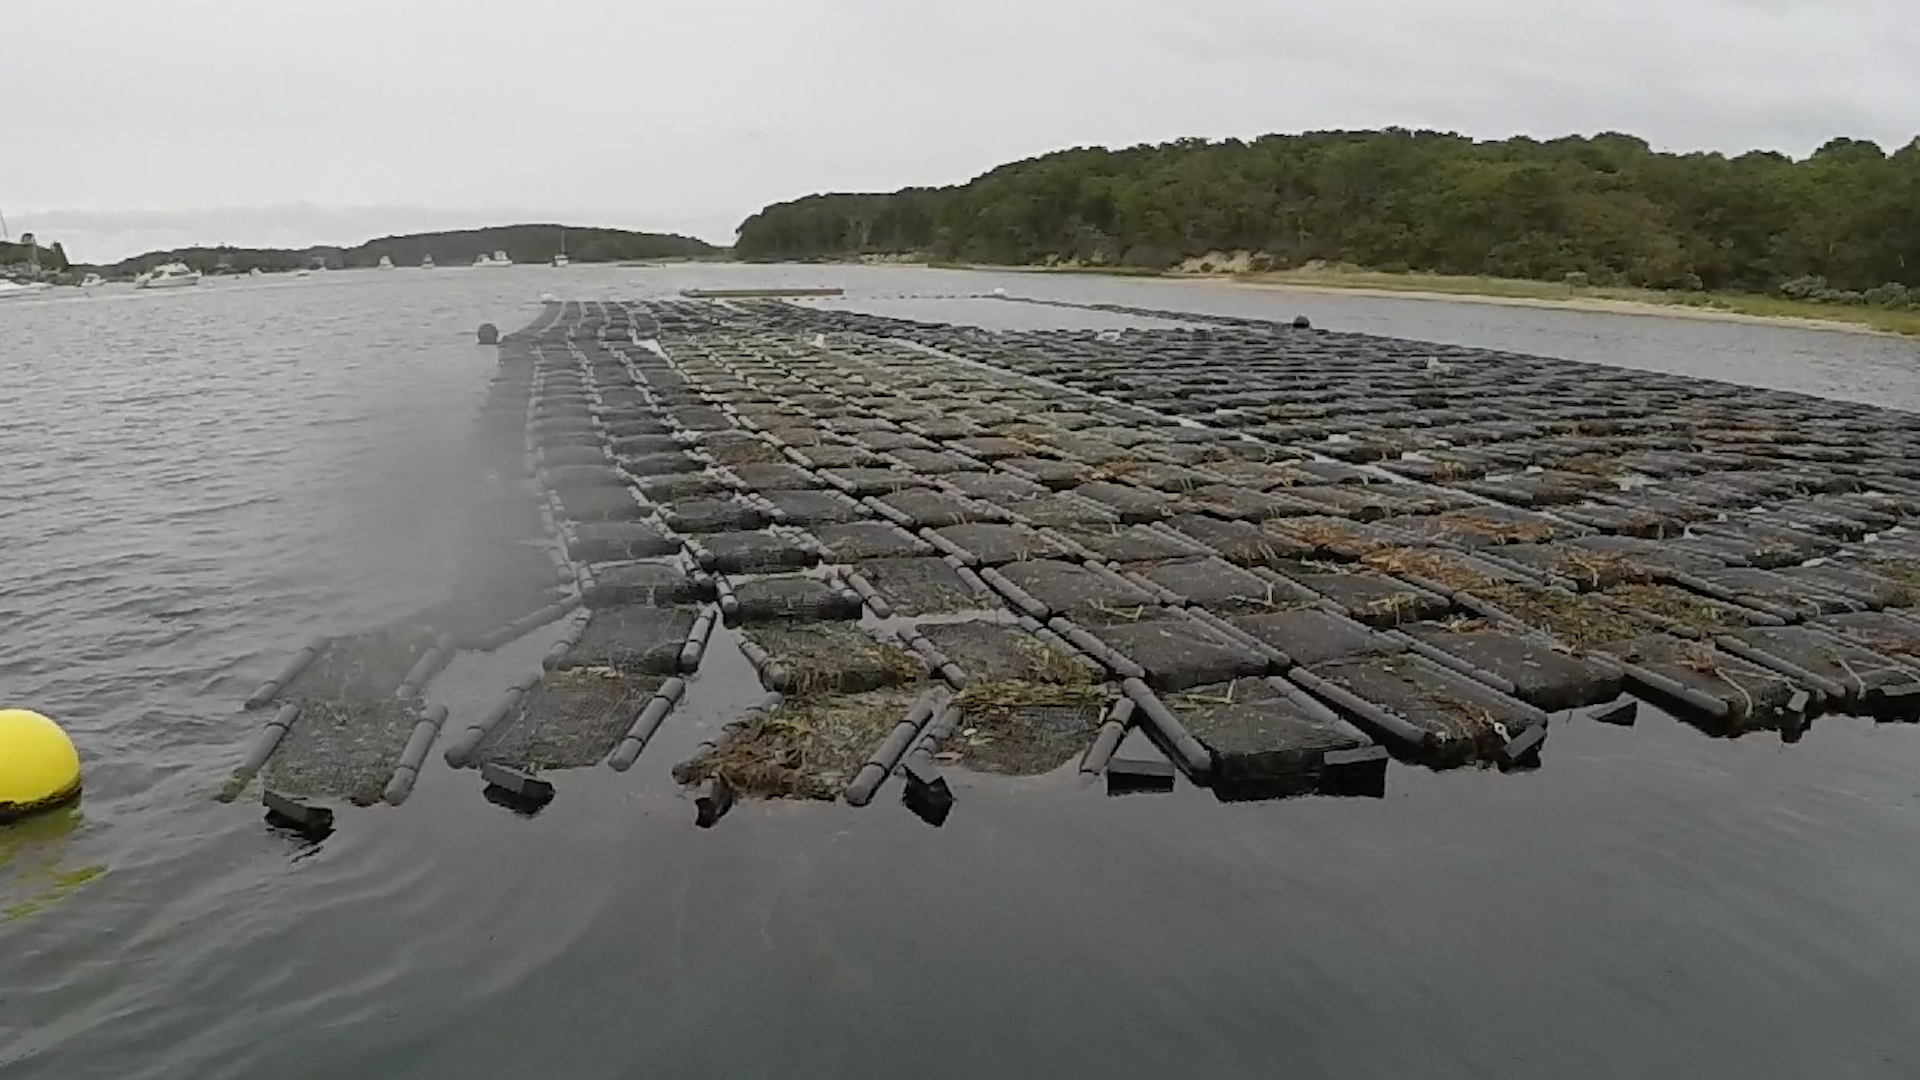bag: (670, 687, 936, 808), (894, 686, 1133, 793)
